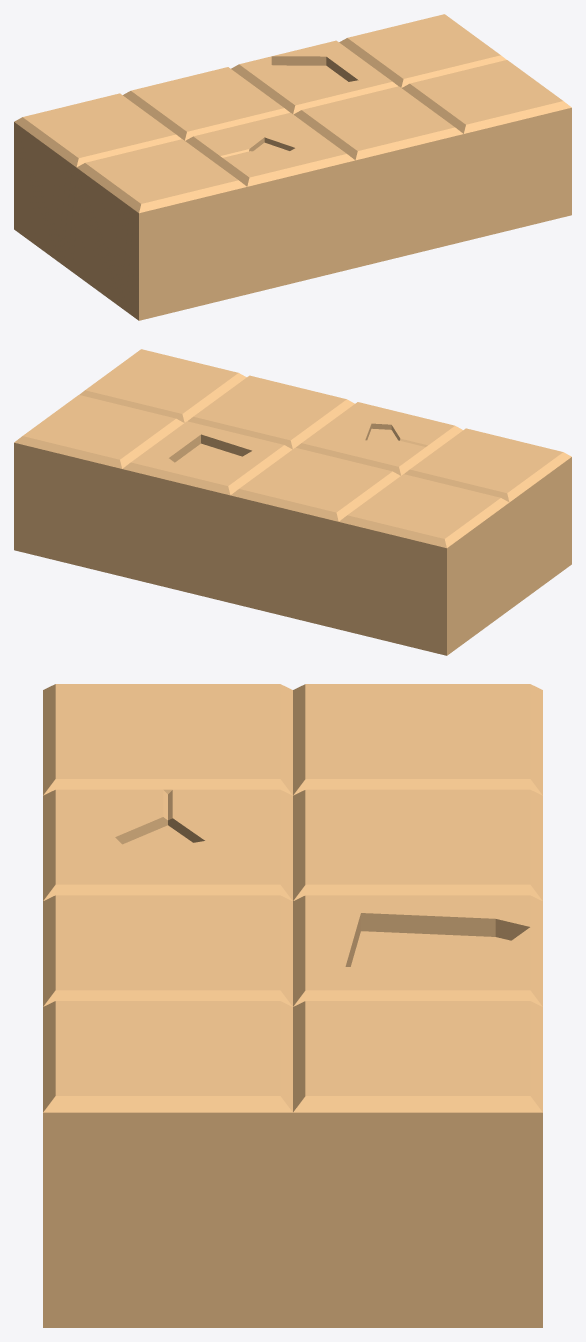
Rendered from 4x2 Floor.fbx.
The picture shows the model from 3 angles, top to bottom: view 1: azimuth 30°, elevation 25°; view 2: azimuth 150°, elevation 25°; view 3: azimuth 270°, elevation 25°; orthographic projection. The views are drawn at different scales.
Parts seen in each view (by area): view 1: Cube; view 2: Cube; view 3: Cube.
Part boxes in pixels (x1,y1,x2,y2): Cube: (14,14,571,320); Cube: (14,349,571,655); Cube: (43,684,542,1327).
Bounding box in the file's own units: 400 × 100 × 200.
